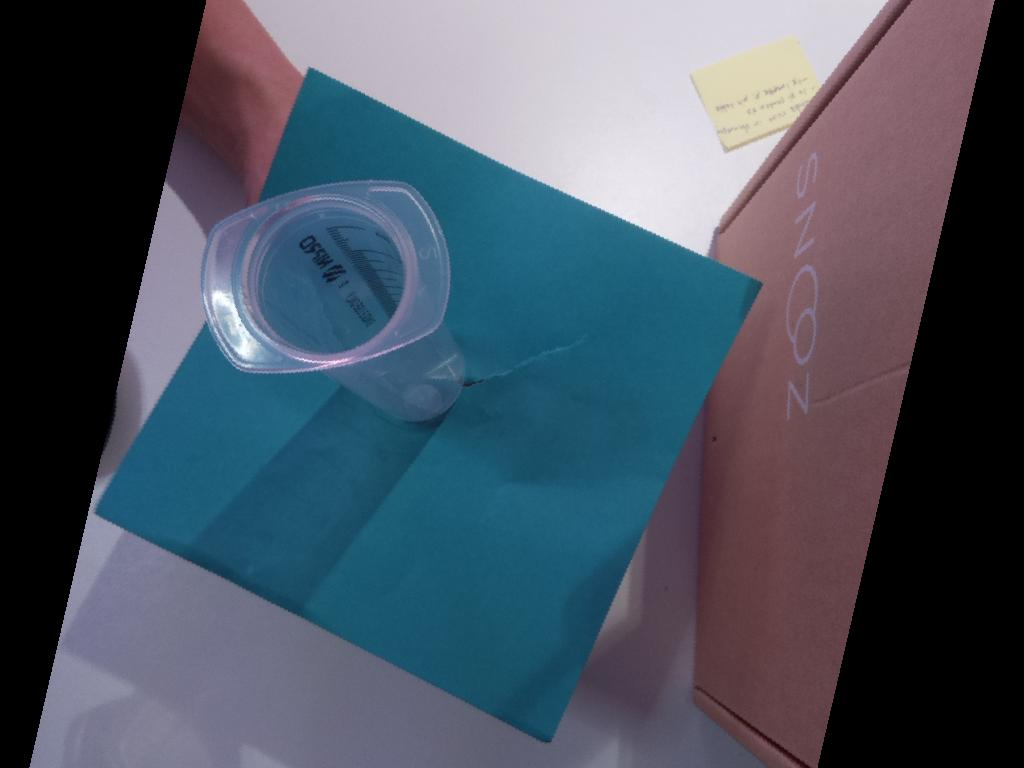clean: (200, 178, 453, 374)
